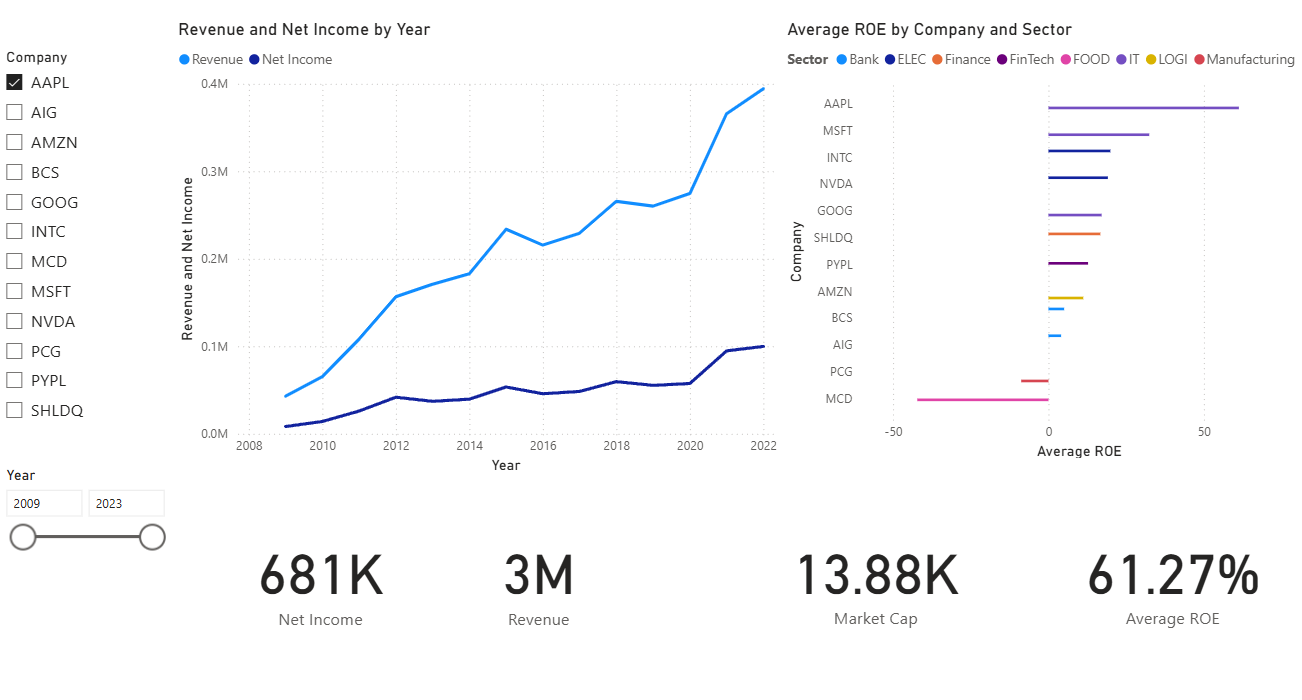

What the dashboard file says about the page in this screenshot:
{"tool":"powerbi","page":{"name":"Page 1","canvas":[1280,720],"ordinal":0},"visuals":[{"type":"slicer","fields":{"Values":["public financials.Company"]},"box":[0,59.7,154.5,387],"z":0},{"type":"card","fields":{"Values":["Sum(public financials.revenue)"]},"box":[413,466.2,235.1,228.6],"z":1000},{"type":"card","fields":{"Values":["Avg(public financials.ROE cleaned)"]},"box":[1024.7,453.2,246.8,253.2],"z":2000},{"type":"card","fields":{"Values":["Sum(public financials.Net Income)"]},"box":[223.4,483.1,189.6,193.5],"z":3000},{"type":"card","fields":{"Values":["Sum(public financials.Market Cap(in B USD))"]},"box":[739,453.2,239,253.2],"z":4000},{"type":"lineChart","title":"Revenue and Net Income by Year","fields":{"Y":["Sum(public financials.revenue)","Sum(public financials.Net Income)"],"Category":["public financials.Year"]},"box":[175.3,36.4,592.2,446.8],"z":5000},{"type":"slicer","fields":{"Values":["public financials.Year"]},"box":[0,466.2,175.3,253.2],"z":6000},{"type":"clusteredBarChart","fields":{"Category":["public financials.Company"],"Y":["Avg(public financials.roe)"],"Series":["public financials.category"]},"box":[767.5,36.4,513,432.5],"z":7000}]}

Visuals, with their boxes on the page's 1280x720 design canvas (x1, y1, x2, y2). These are canvas units, not pixel positions in the 1302x700 screenshot, which may show the page scaled, cropped or inside an application window:
slicer - public financials.Company: BBox(0, 60, 154, 447)
card - Sum(public financials.revenue): BBox(413, 466, 648, 695)
card - Avg(public financials.ROE cleaned): BBox(1025, 453, 1272, 706)
card - Sum(public financials.Net Income): BBox(223, 483, 413, 677)
card - Sum(public financials.Market Cap(in B USD)): BBox(739, 453, 978, 706)
"Revenue and Net Income by Year" lineChart: BBox(175, 36, 768, 483)
slicer - public financials.Year: BBox(0, 466, 175, 719)
clusteredBarChart - public financials.Company x Avg(public financials.roe): BBox(768, 36, 1280, 469)
